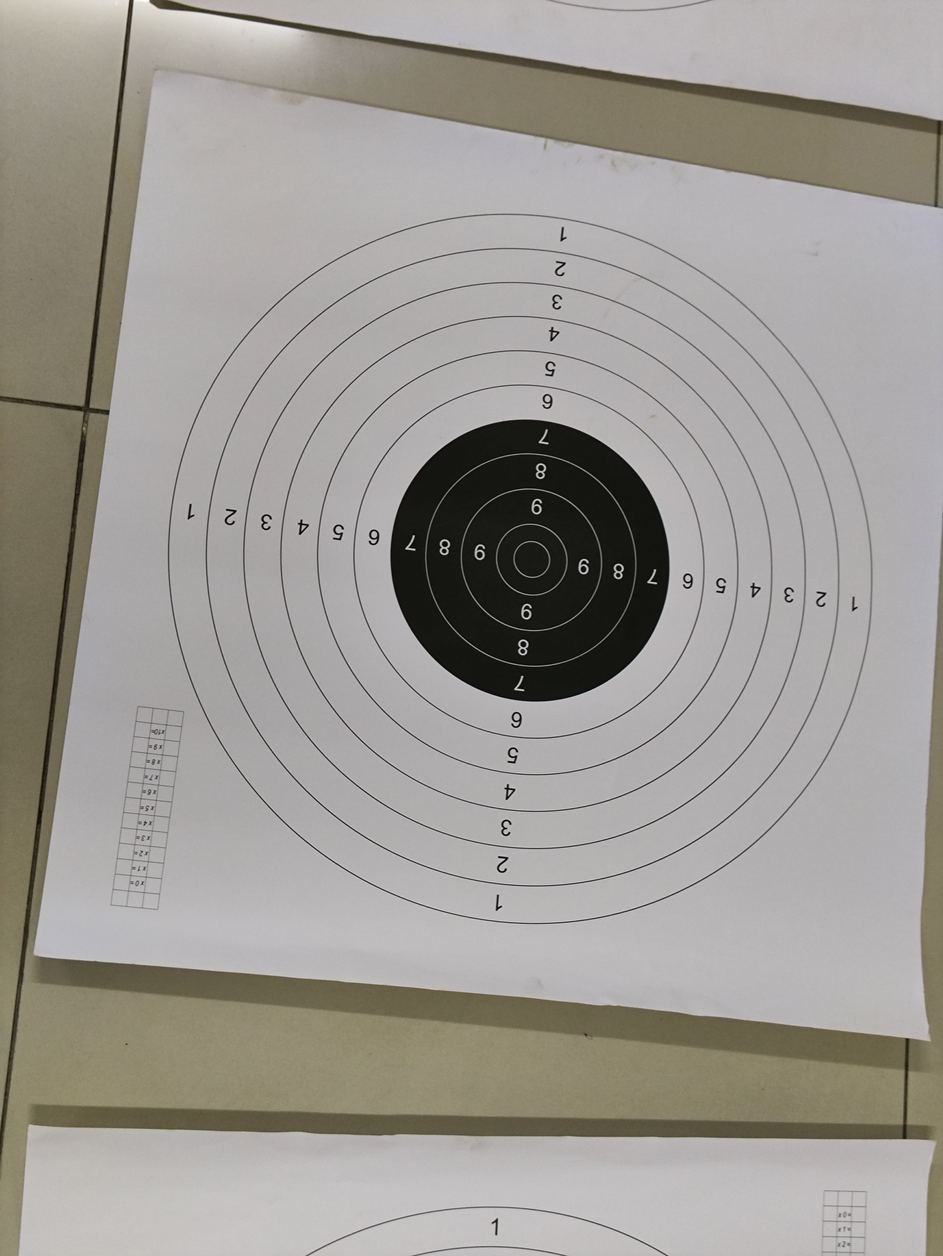target: (158, 163, 896, 953)
